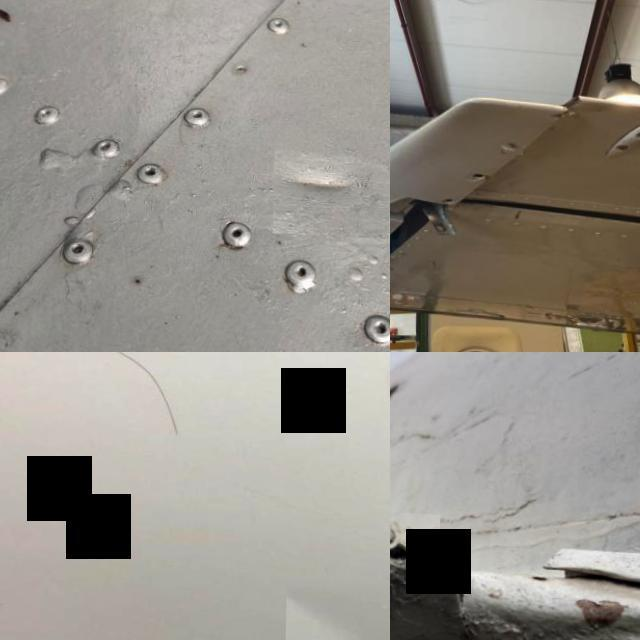Crack: (390, 507, 441, 582)
Dent: (274, 122, 390, 234), (288, 574, 390, 640)
Missing_Fastener: (502, 136, 524, 151), (468, 168, 488, 179), (442, 192, 460, 202)
